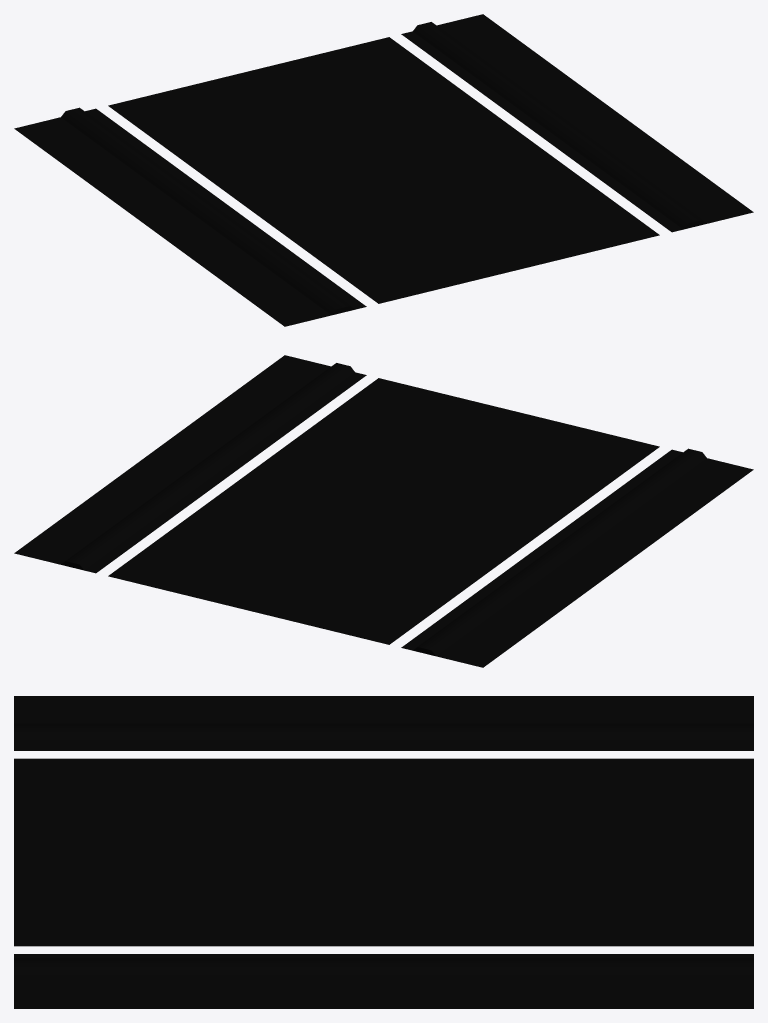
File: track-straight-gravel.glb
3 renders of one model, top to bottom at view 1: azimuth 30°, elevation 25°; view 2: azimuth 150°, elevation 25°; view 3: azimuth 270°, elevation 25°, orthographic. The views are drawn at different scales.
Parts seen in each view (by area): view 1: track-straight; view 2: track-straight; view 3: track-straight.
Boxes of the visible parts, x1,y1,x2,y2 form: track-straight: [14, 14, 753, 326]; track-straight: [14, 355, 753, 667]; track-straight: [14, 696, 753, 1008].
Size of the model in its own units: 10 by 0.1001 by 10.
1 material, 1 textured.
